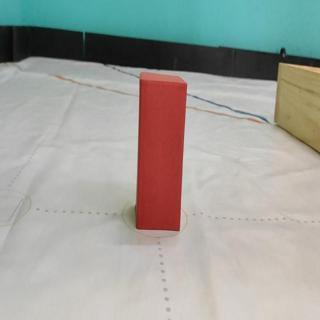redbox: (135, 69, 187, 230)
